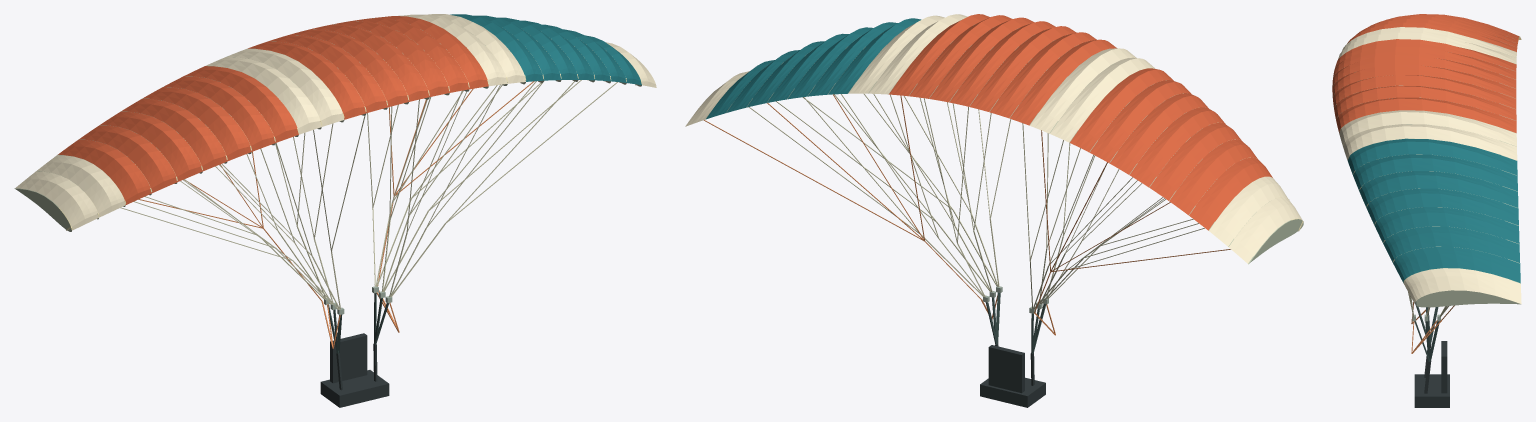
The model's file is parakite.glb.
3 views of the same model, side by side, from view 1: azimuth 30°, elevation 25°; view 2: azimuth 150°, elevation 25°; view 3: azimuth 270°, elevation 25° (orthographic). The views are drawn at different scales.
Parts seen in each view (by area): view 1: parakite; view 2: parakite; view 3: parakite.
Boxes of the visible parts, x1,y1,x2,y2 form: parakite: (14,14,656,407); parakite: (685,14,1303,407); parakite: (1332,14,1521,407).
Bounding box in the file's own units: 8.51 × 5.06 × 2.57.
